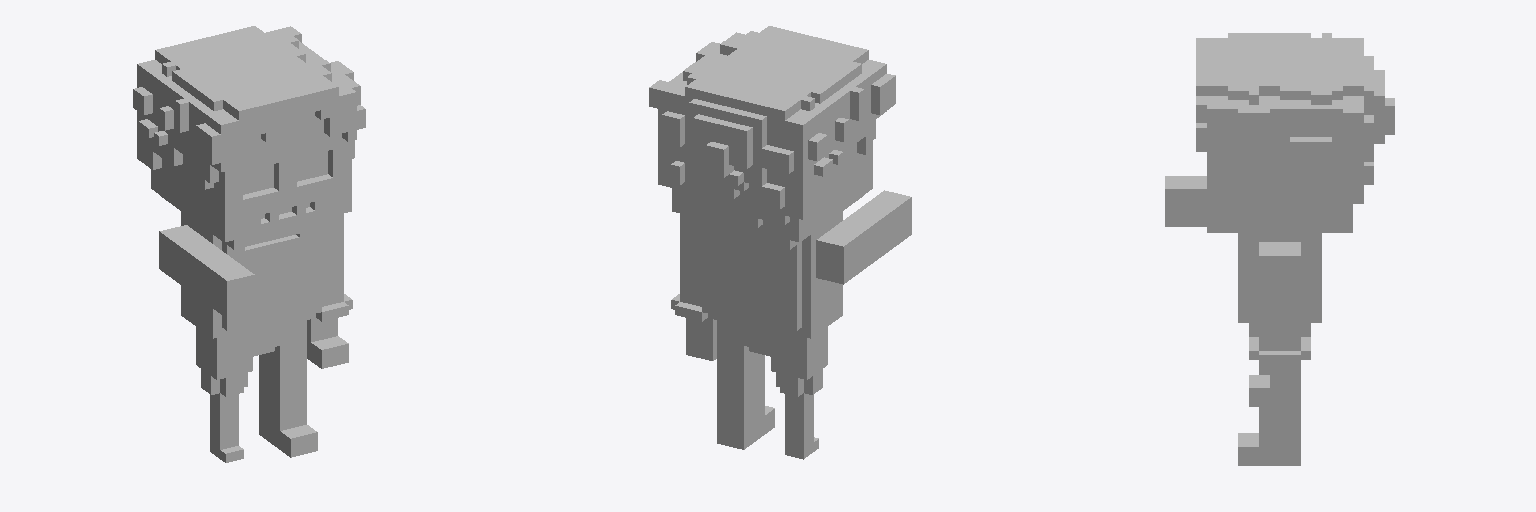
File: enemy.obj
The picture shows the model from 3 angles: view 1: azimuth 30°, elevation 25°; view 2: azimuth 150°, elevation 25°; view 3: azimuth 270°, elevation 25°; orthographic projection.
Visible parts, largest first — view 1: object 1; view 2: object 1; view 3: object 1.
Part boxes in pixels (x1,y1,x2,y2): object 1: (133,26,365,462); object 1: (649,26,911,459); object 1: (1165,33,1394,465).
Size of the model in its own units: 1.9 by 4 by 2.2.